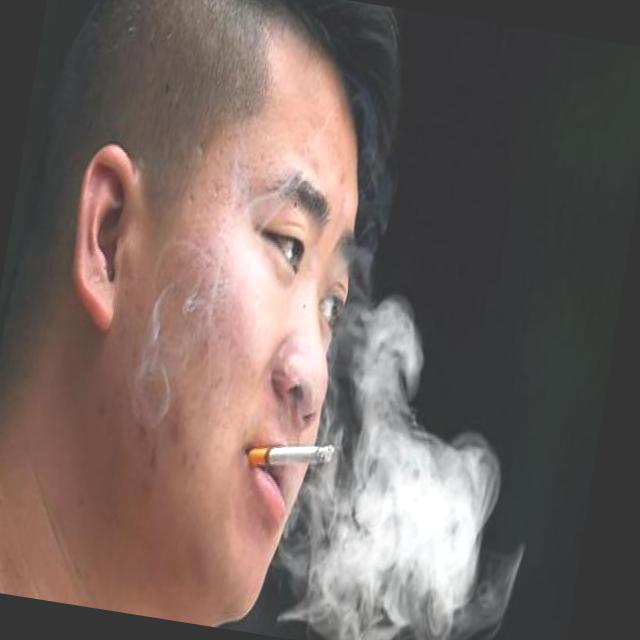smoke: (265, 433, 336, 478)
